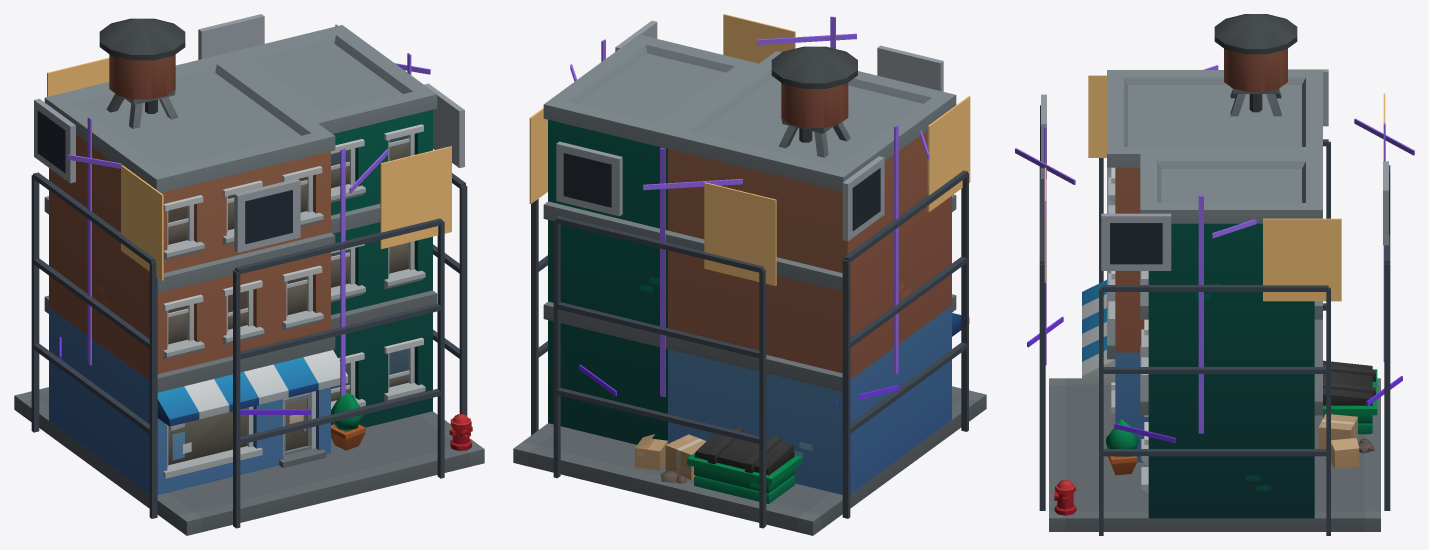
Rendered from wall_c.fbx.
3 views of the same model, side by side, from view 1: azimuth 30°, elevation 25°; view 2: azimuth 150°, elevation 25°; view 3: azimuth 270°, elevation 25° (orthographic). The views are drawn at different scales.
Parts seen in each view (by area): view 1: wall_c; view 2: wall_c; view 3: wall_c.
Part boxes in pixels (left/top/right/bottom): wall_c: left=14, top=14, right=484, bottom=535; wall_c: left=513, top=14, right=986, bottom=535; wall_c: left=1015, top=14, right=1414, bottom=535.
Size of the model in its own units: 4 by 4.5 by 4.
